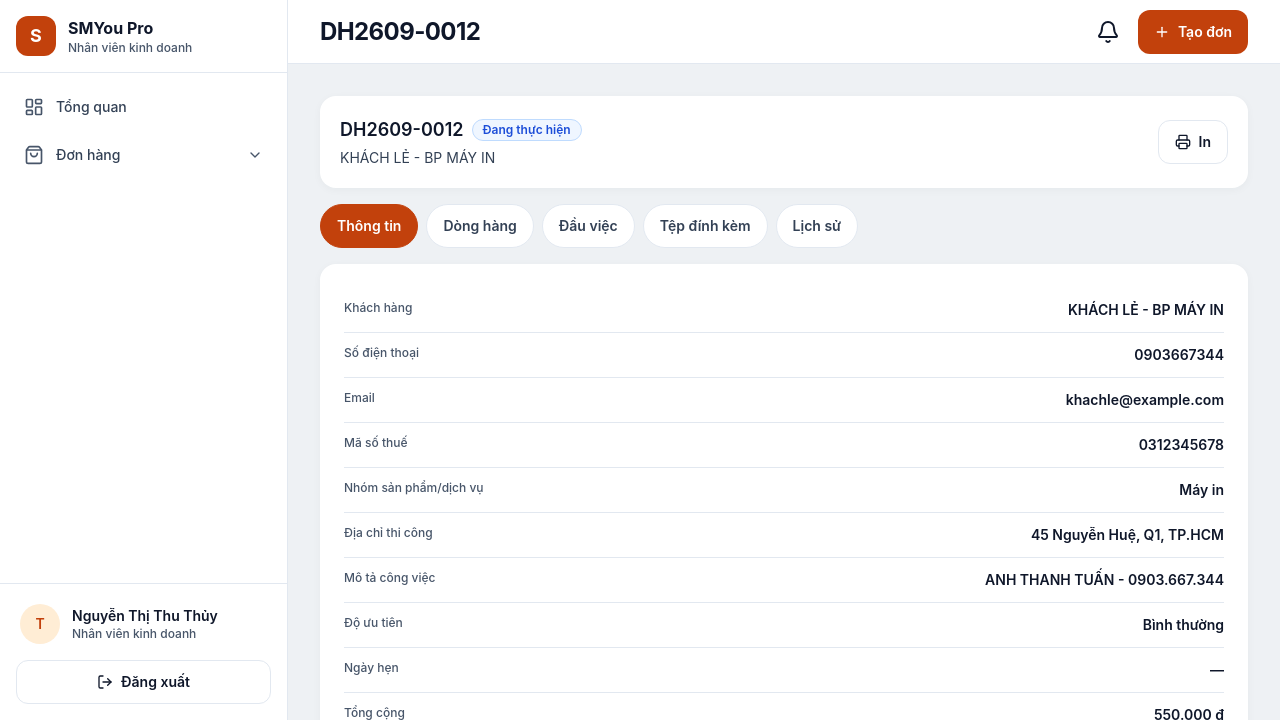
it: AC-ORD-209 in đơn nháp đã lưu › AC-ORD-209 lỗi API → toast, không mở hộp thoại in
Click the button "In". click: [1193, 142]
box: [1158,120,1228,164]
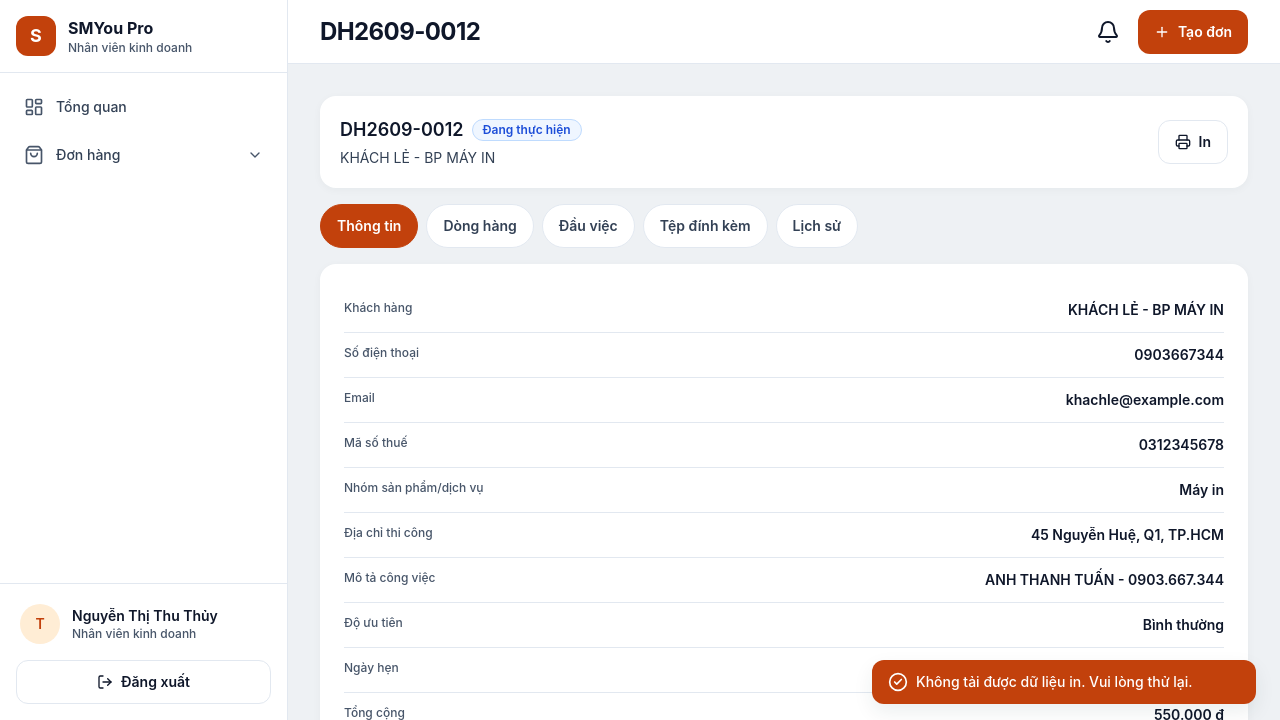
Check: the text "Không tải được dữ liệu in. Vui lòng thử lại." is shown, box [872,660,1256,704]
